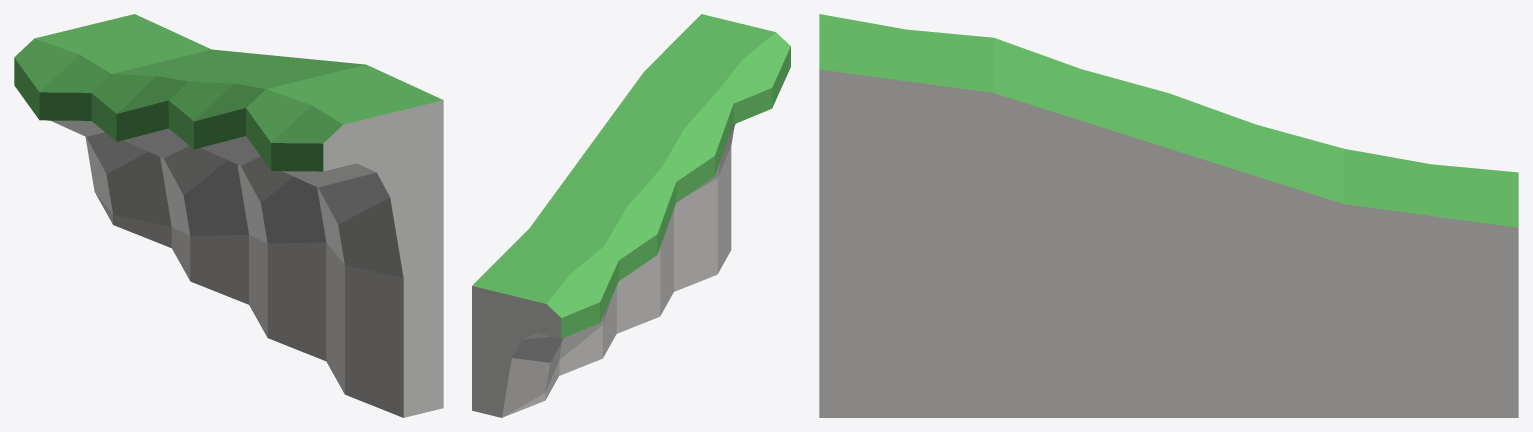
File: Cliff_Base_Hill_Gentle_Mirror.glb
3 renders of one model, left to right at view 1: azimuth 30°, elevation 25°; view 2: azimuth 150°, elevation 25°; view 3: azimuth 270°, elevation 25°, orthographic. The views are drawn at different scales.
Parts seen in each view (by area): view 1: object1; view 2: object1; view 3: object1.
Part boxes in pixels (<box>): object1: <box>14,14,443,417</box>; object1: <box>472,14,790,417</box>; object1: <box>819,14,1518,417</box>.
Size of the model in its own units: 1 by 2.2 by 4.
